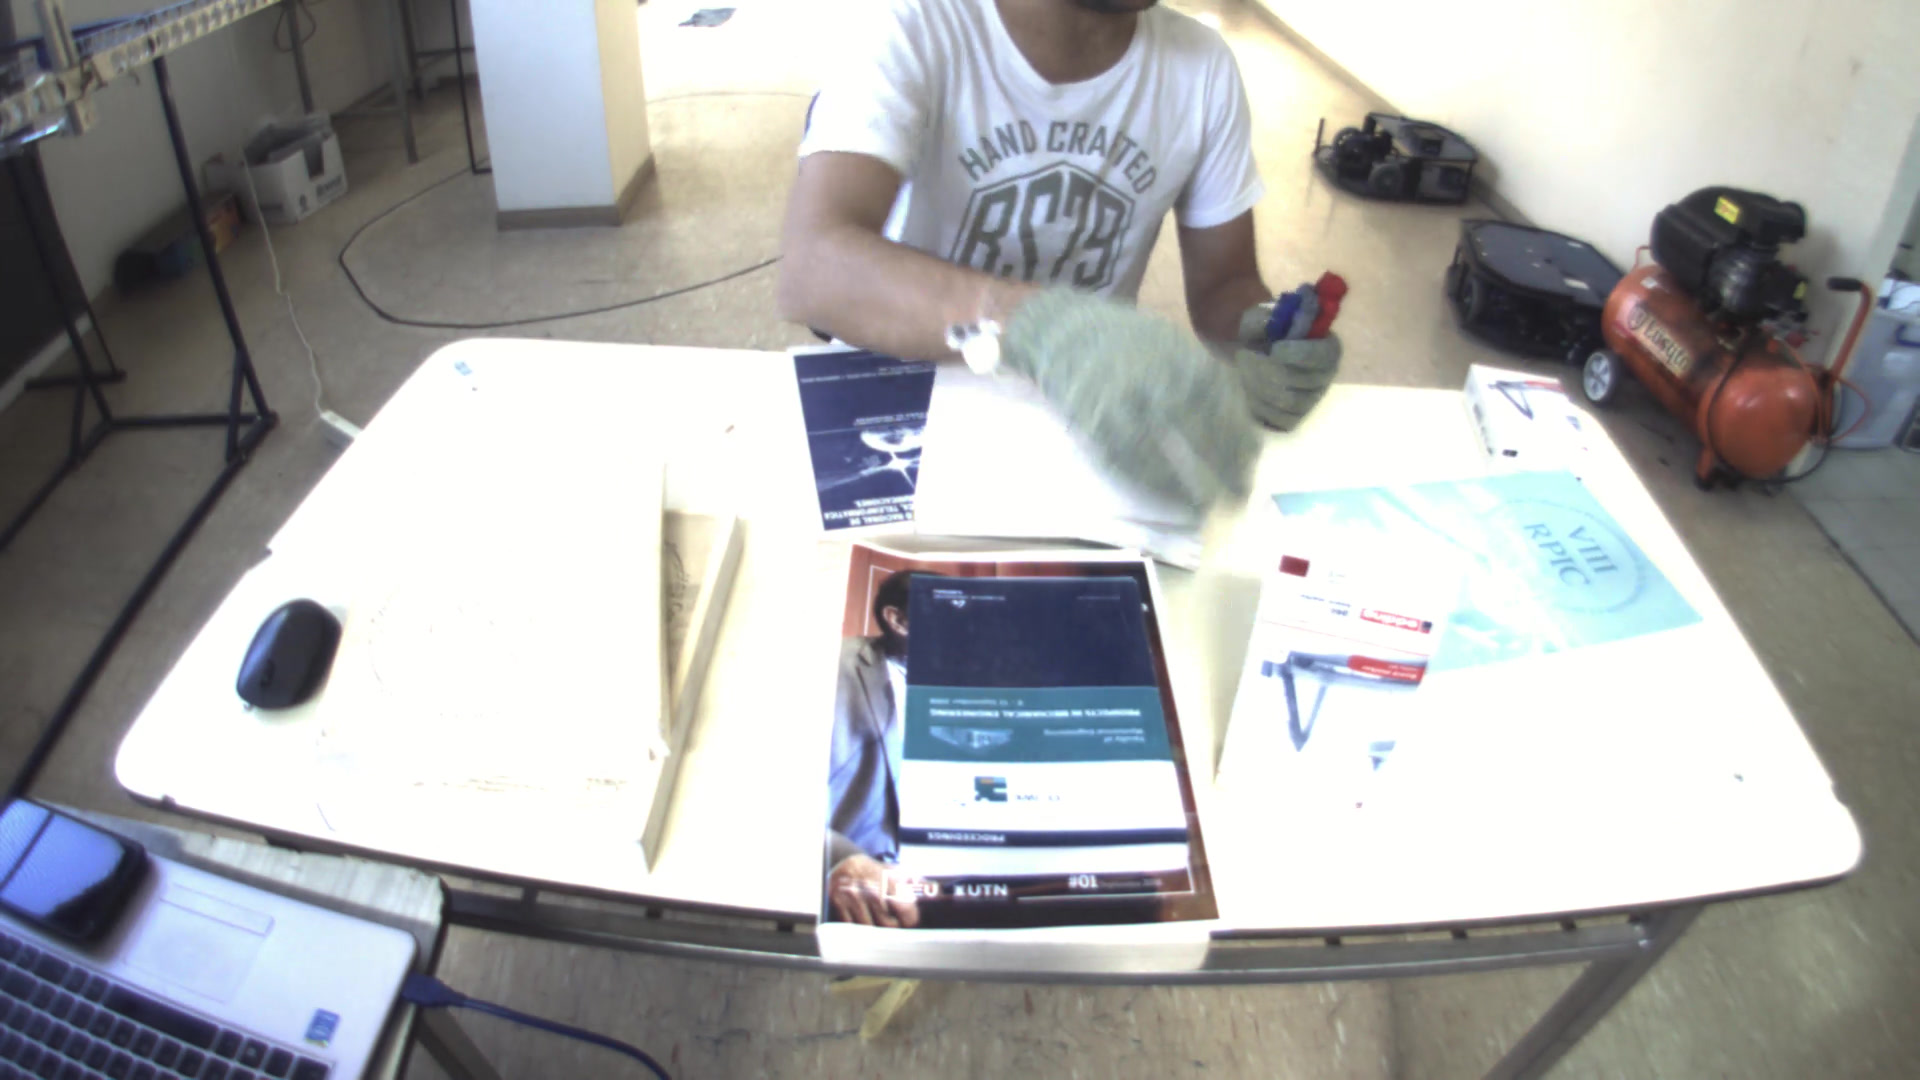hand: (994, 287, 1261, 517), (1226, 282, 1360, 442)
